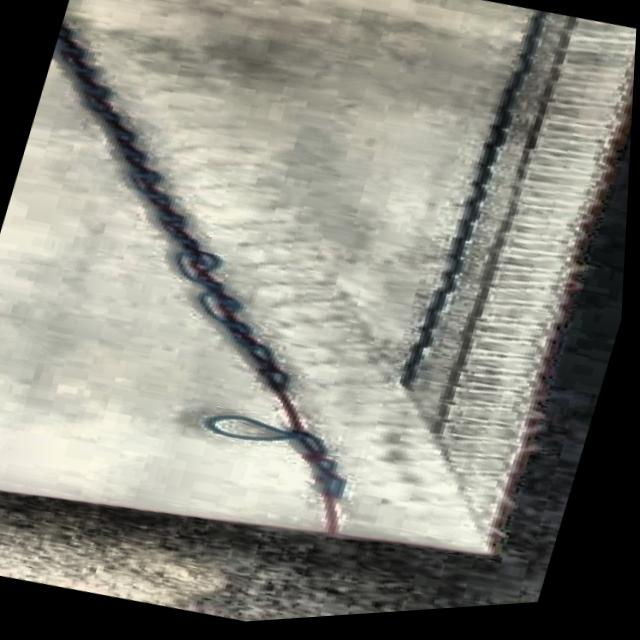Stitch: (15, 192, 336, 414), (178, 380, 391, 534)
